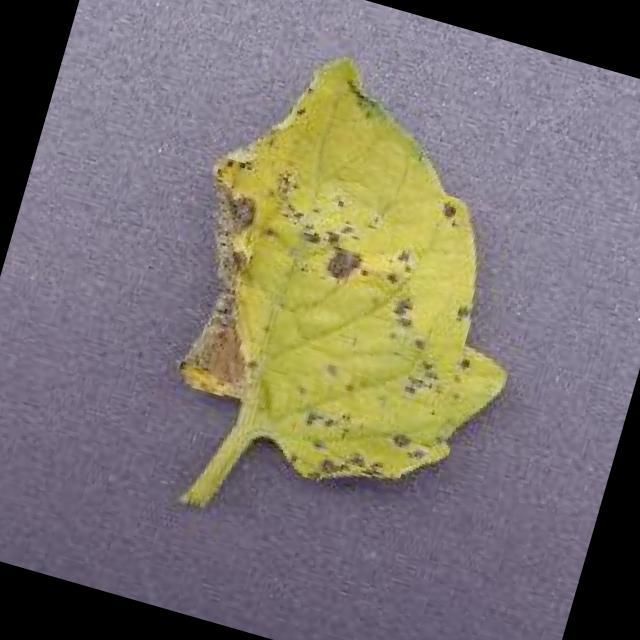Tomato Septoria spot leaf: (146, 26, 581, 520)
